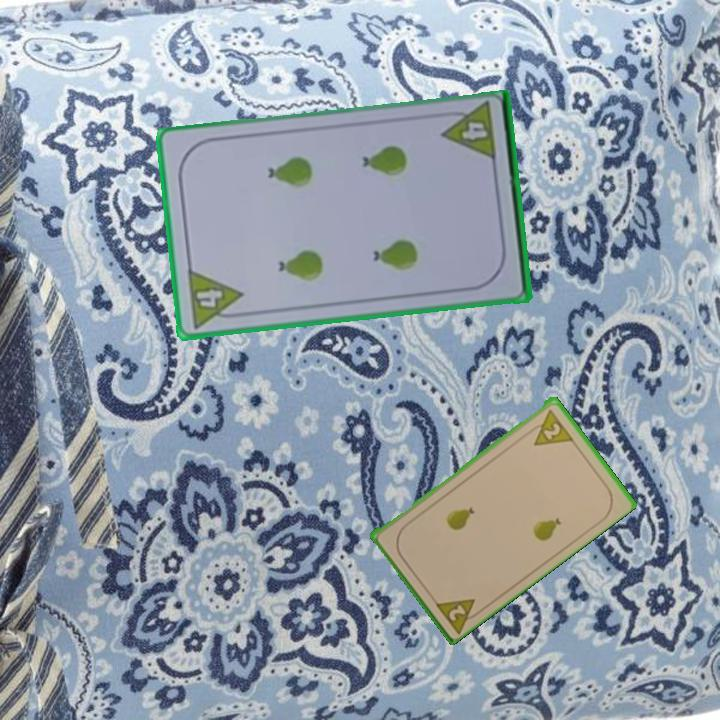2p: (523, 405, 575, 449), (431, 594, 486, 635)
4p: (183, 266, 247, 331), (437, 100, 499, 165)
